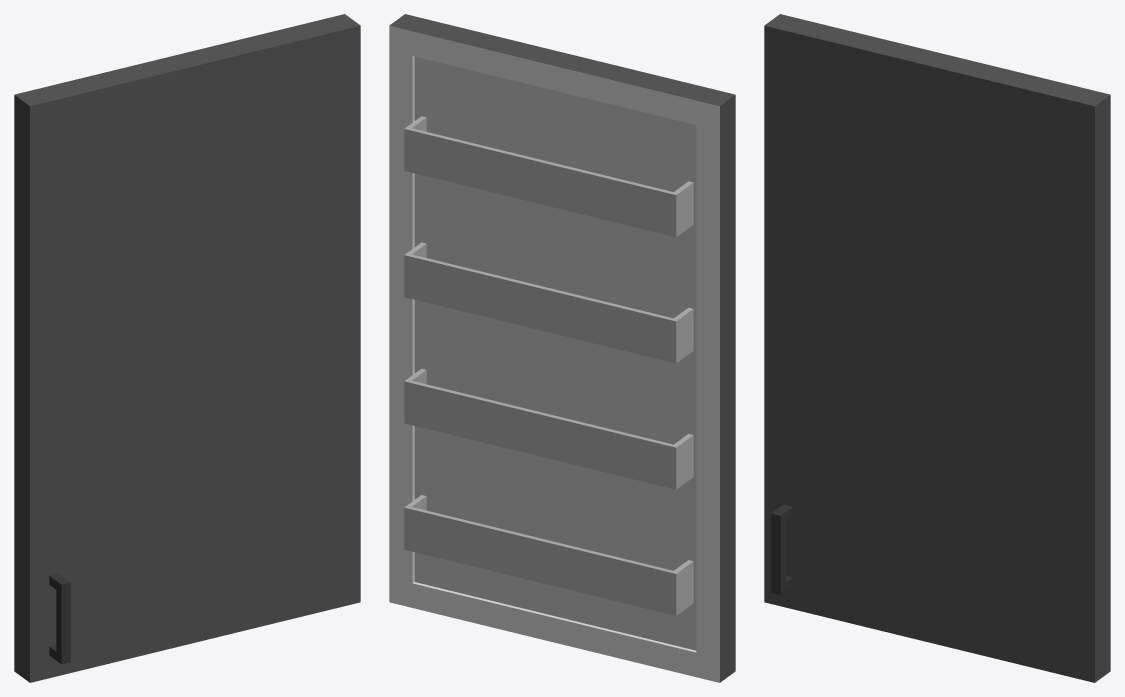
Rendered from Refrigerator1_C2_02.fbx.
3 renders of one model, left to right at view 1: azimuth 30°, elevation 25°; view 2: azimuth 150°, elevation 25°; view 3: azimuth 330°, elevation 25°, orthographic.
Visible parts, largest first — view 1: Refrigerator1_C2_02; view 2: Refrigerator1_C2_02; view 3: Refrigerator1_C2_02.
Part boxes in pixels (x1,y1,x2,y2): Refrigerator1_C2_02: [14, 14, 360, 682]; Refrigerator1_C2_02: [389, 14, 735, 682]; Refrigerator1_C2_02: [764, 14, 1110, 682].
Size of the model in its own units: 60 by 100 by 13.67.
